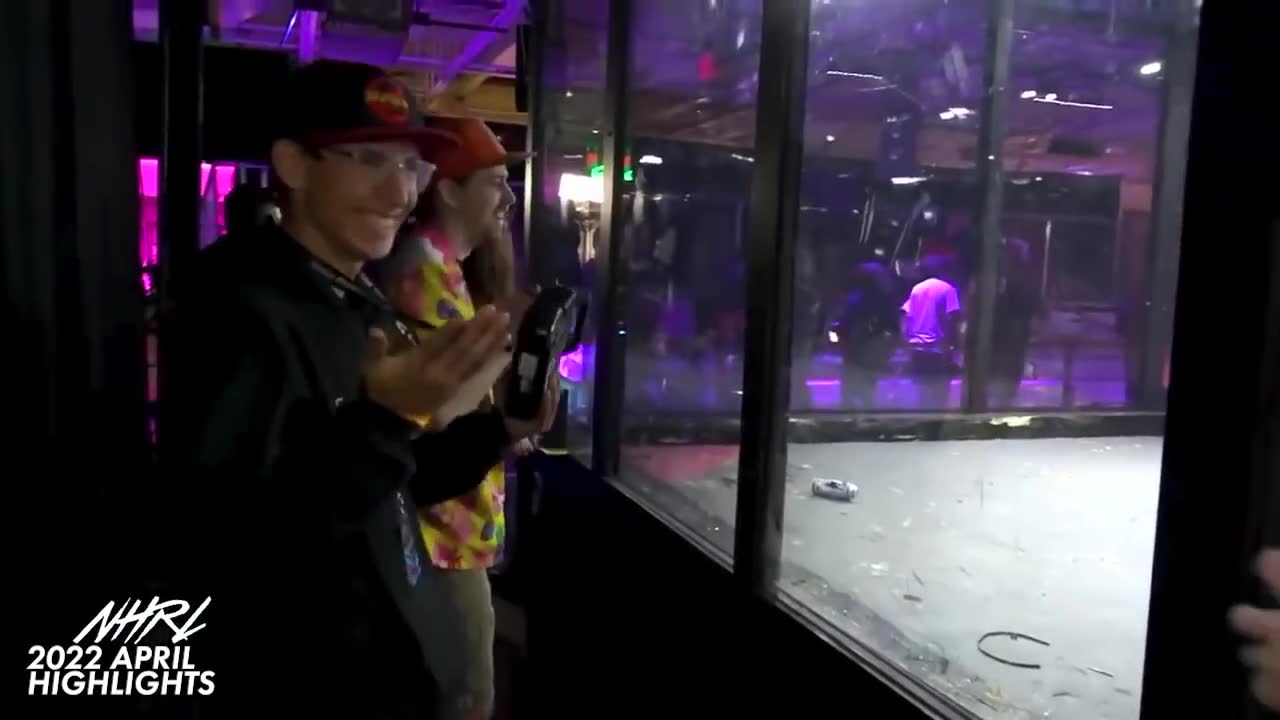belt: (972, 618, 1057, 680)
debris: (810, 477, 860, 505)
